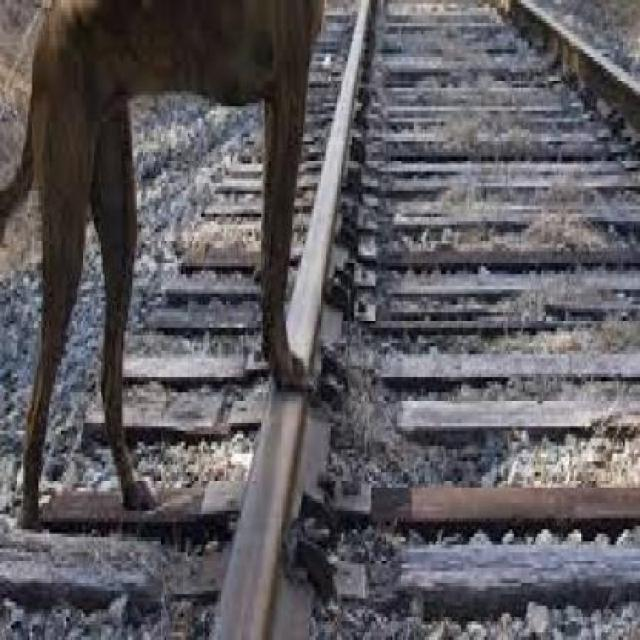danger: (0, 0, 348, 442)
rail: (0, 8, 640, 639)
